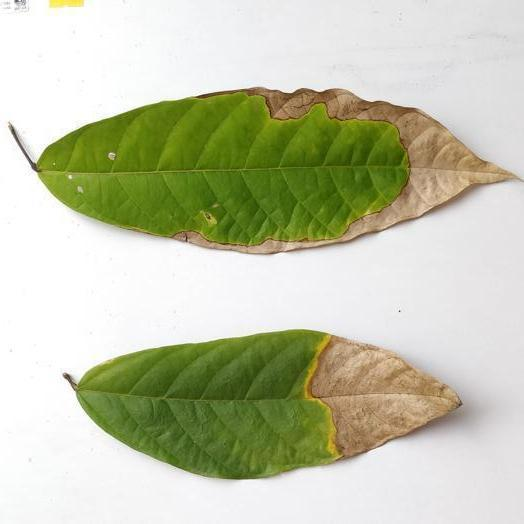Potassium: (11, 88, 515, 252), (68, 330, 460, 477)
